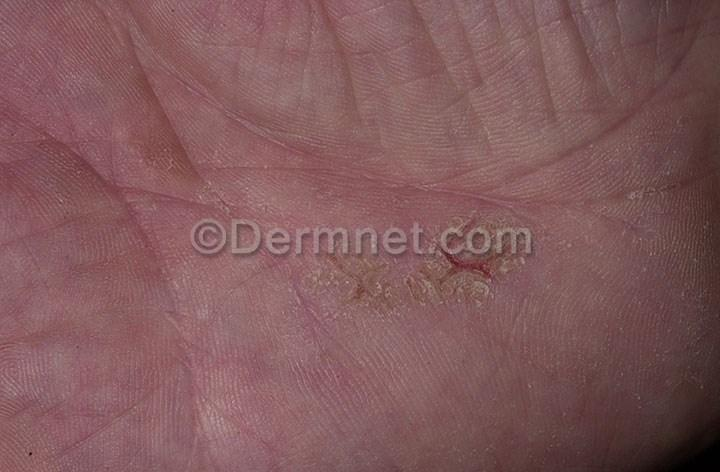Eczema: (285, 169, 589, 383), (104, 95, 234, 228)
